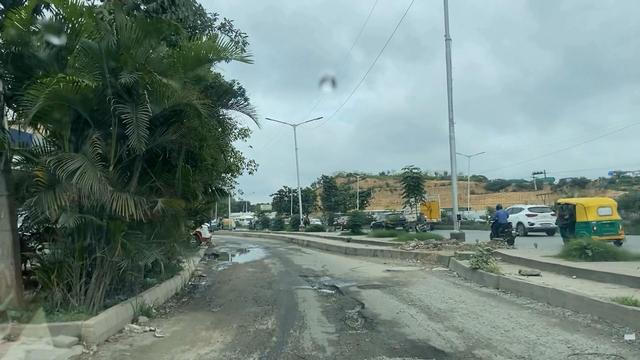RoadDamages: (320, 303, 460, 341), (300, 264, 359, 301), (379, 254, 431, 274), (352, 280, 407, 289)
